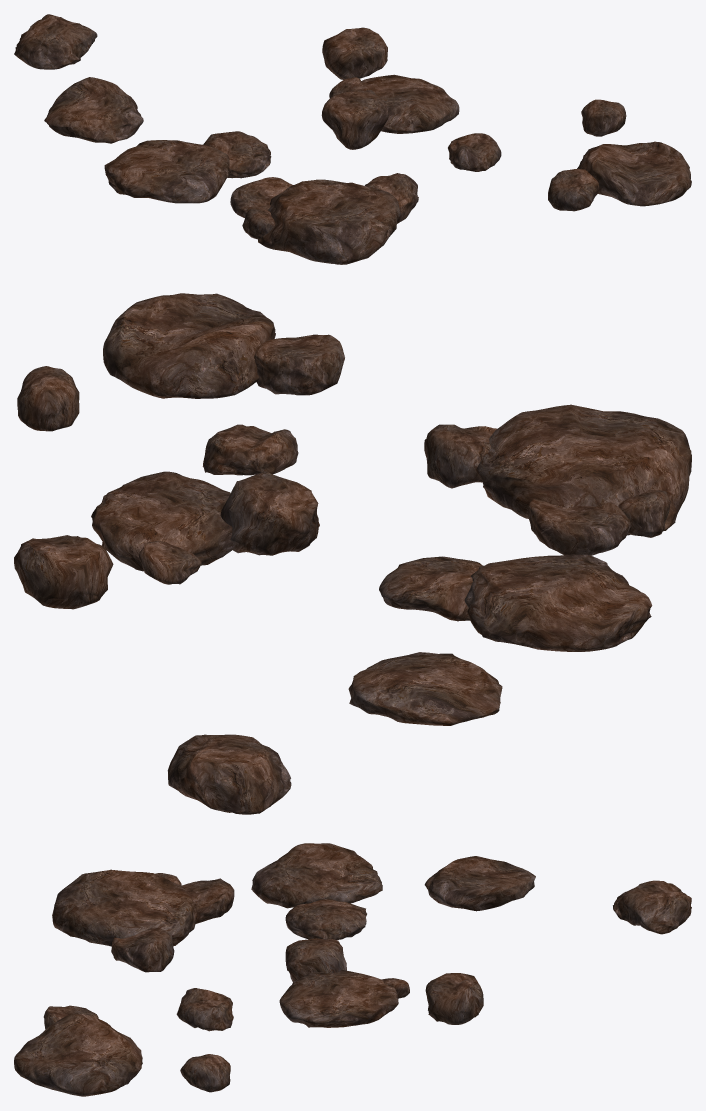
File: shitou_5.fbx
3 views of the same model, one above another, from view 1: azimuth 30°, elevation 25°; view 2: azimuth 150°, elevation 25°; view 3: azimuth 270°, elevation 25° (orthographic). The views are drawn at different scales.
Parts seen in each view (by area): view 1: shitou3:bolder48; view 2: shitou3:bolder48; view 3: shitou3:bolder48.
Part boxes in pixels (<box>): shitou3:bolder48: <box>14,14,691,264</box>; shitou3:bolder48: <box>14,293,691,814</box>; shitou3:bolder48: <box>14,843,691,1096</box>.
Bounding box in the file's own units: 462 × 47.47 × 576.
1 material, 1 textured.
